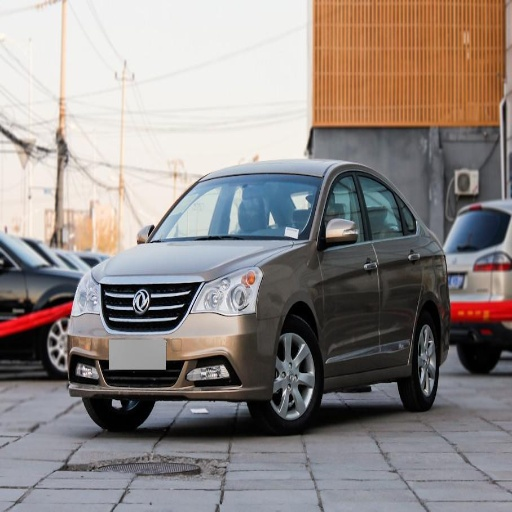front_bumper: (64, 272, 283, 404)
front_glass: (144, 174, 321, 240)
front_left_door: (317, 168, 380, 373)
